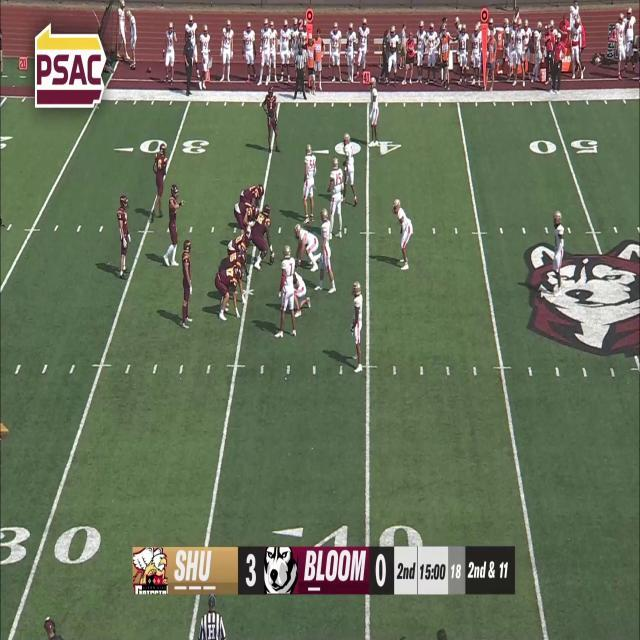football: (270, 253, 276, 266)
